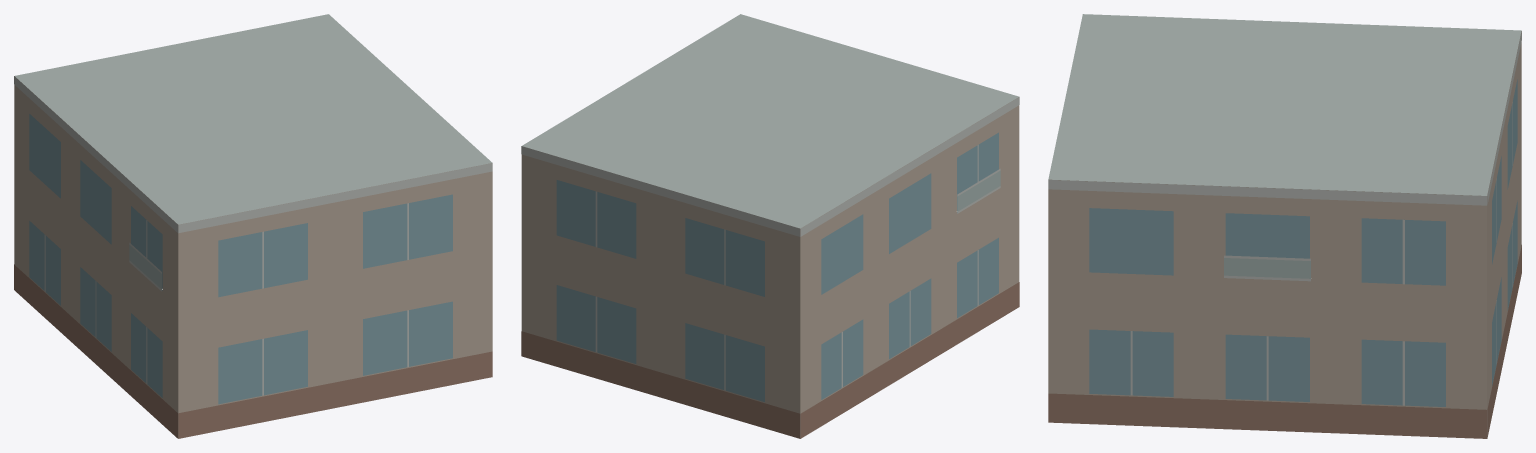
Rendered from survey-upis-32687264.glb.
3 renders of one model, left to right at view 1: azimuth 30°, elevation 25°; view 2: azimuth 150°, elevation 25°; view 3: azimuth 270°, elevation 25°, orthographic. The views are drawn at different scales.
Parts seen in each view (by area): view 1: survey-upis-32687264.tmp; view 2: survey-upis-32687264.tmp; view 3: survey-upis-32687264.tmp.
Boxes of the visible parts, <box> form: survey-upis-32687264.tmp: <box>14,14,492,438</box>; survey-upis-32687264.tmp: <box>521,14,1019,438</box>; survey-upis-32687264.tmp: <box>1048,14,1521,438</box>.
Size of the model in its own units: 9.81 by 6.1 by 10.79.
